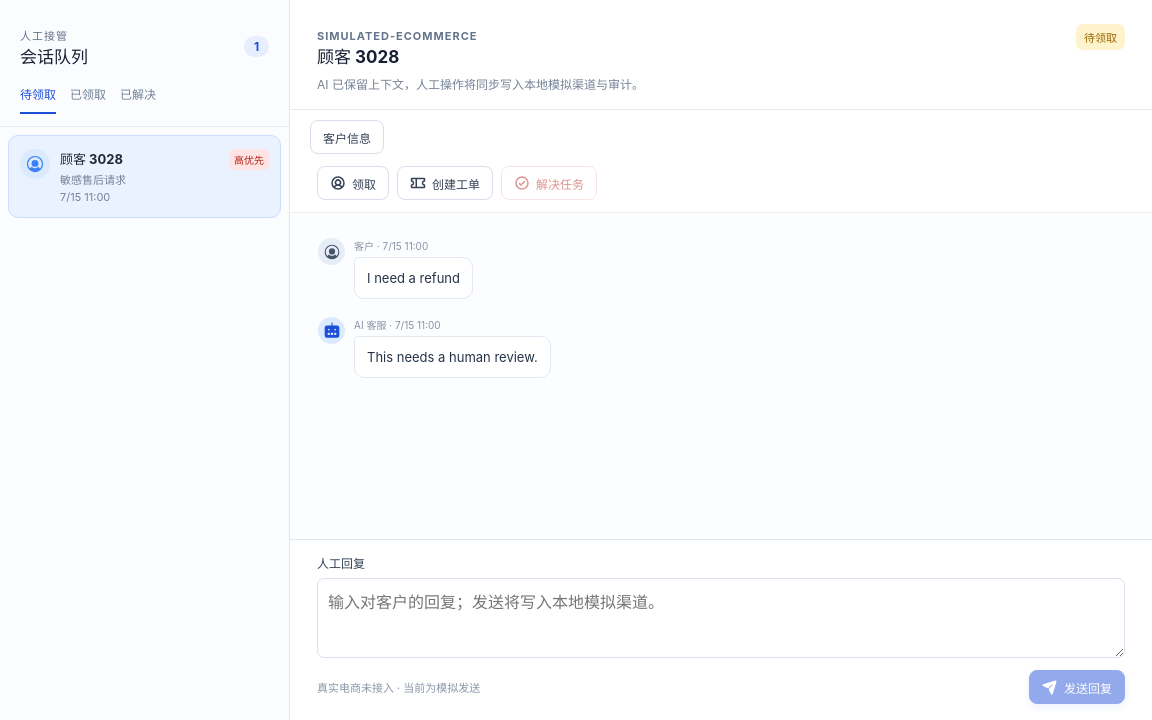
Scenario: sends a human reply and renders simulated delivery status
Check: the text "顾客 3028" is shown, box [60,151,123,167]
Click the button "领取" at (353, 183), box [317,166,389,200]
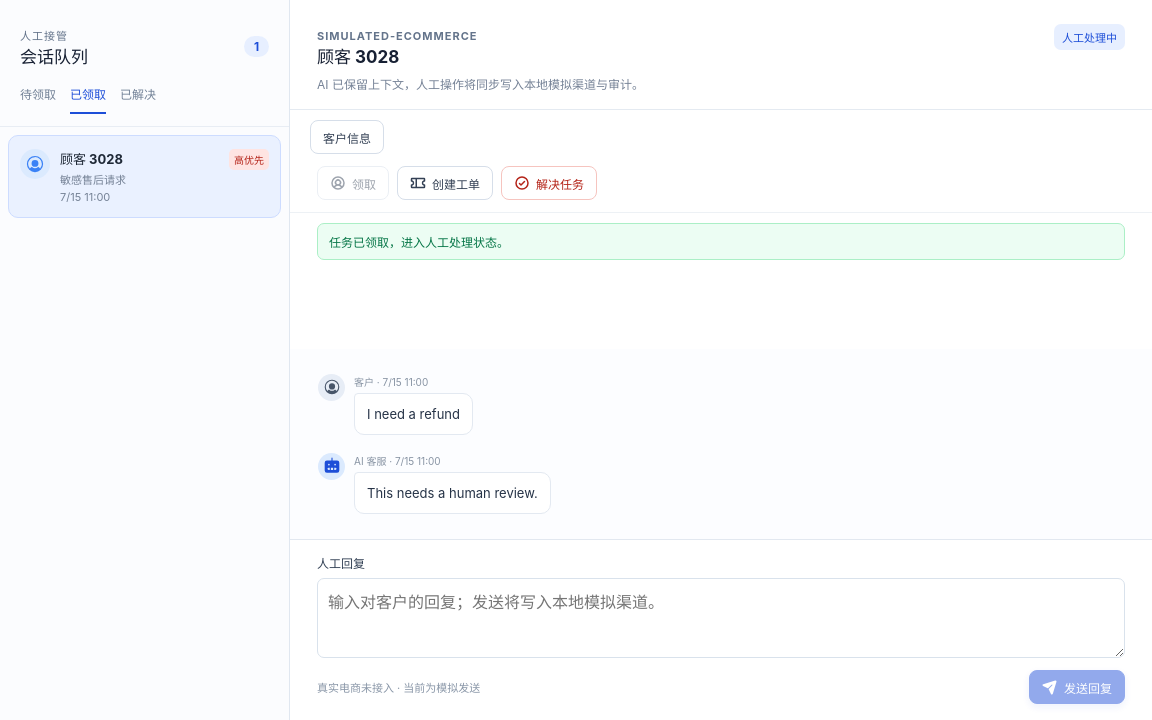
Type "We are reviewing it now." into the text box labelled "人工回复" at (721, 618), box [317,578,1125,658]
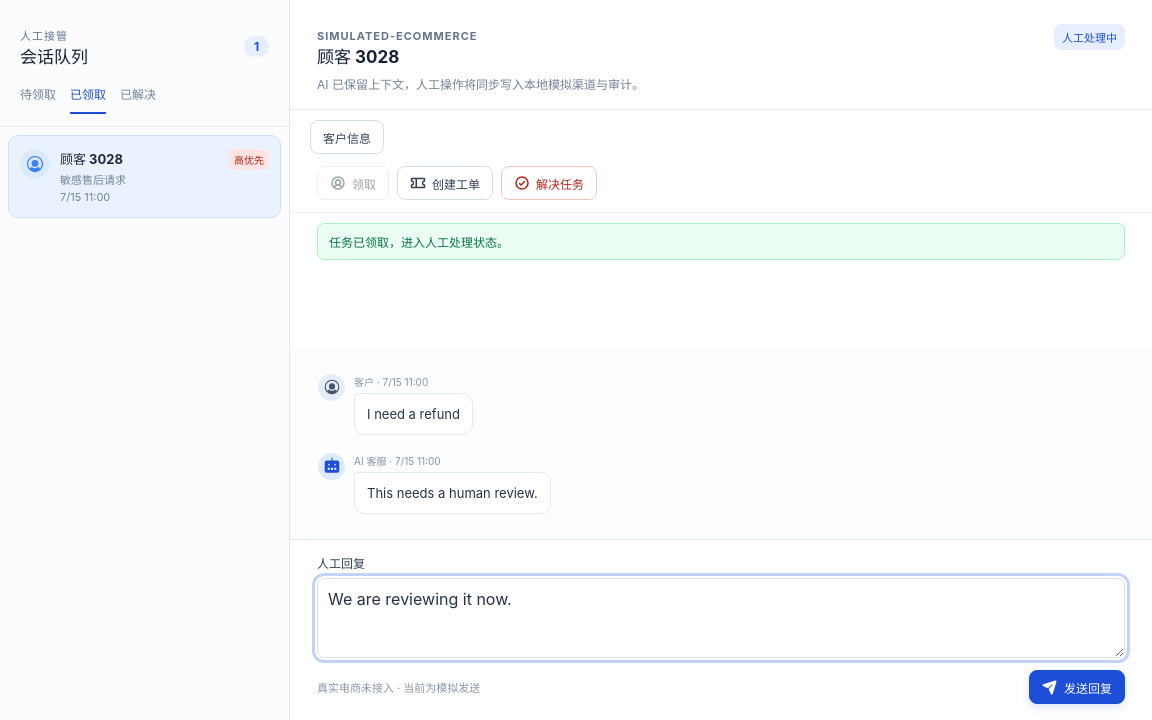
Click the button "发送回复" at (1077, 687), box [1029,670,1125,704]
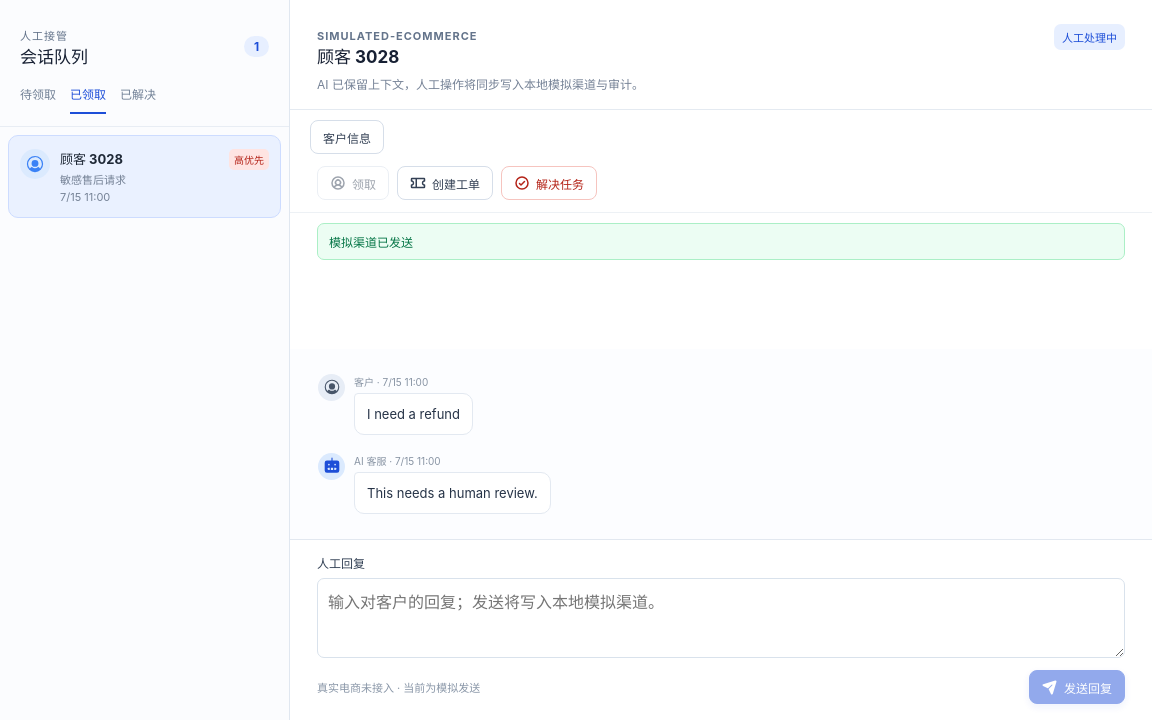
Check: the text "模拟渠道已发送" is shown, box [317,223,1125,260]
